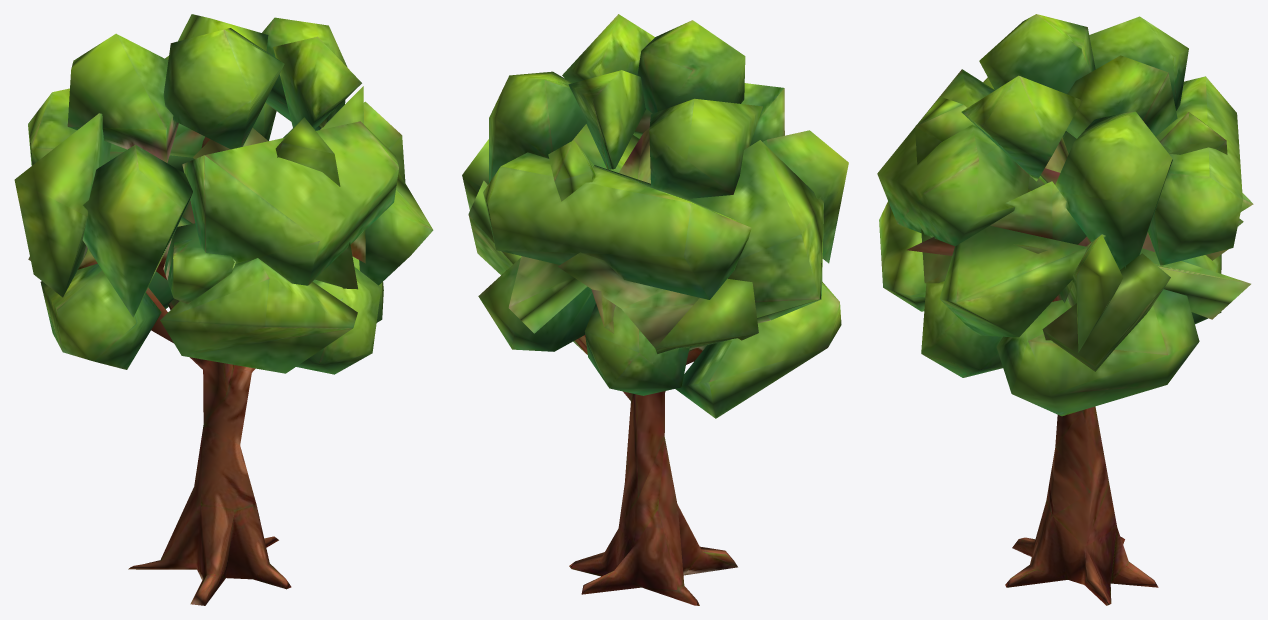
Rendered from world-tree.glb.
3 views of the same model, side by side, from view 1: azimuth 30°, elevation 25°; view 2: azimuth 150°, elevation 25°; view 3: azimuth 270°, elevation 25° (orthographic). The views are drawn at different scales.
Size of the model in its own units: 2.73 by 4 by 2.49.
1 material, 1 textured.
